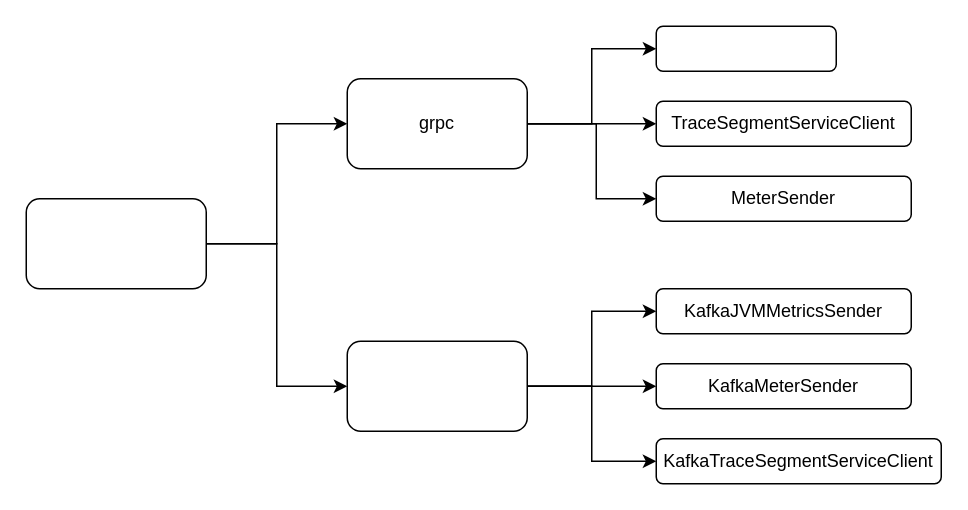
Image size: 968x510. Some labels were removed from this diagram. The centre of each missing label's shape, as x and y in pixels:
"agent data" goes at (x=115, y=243).
"JVMMetricsSender" goes at (x=745, y=48).
"kafka" goes at (x=436, y=385).
